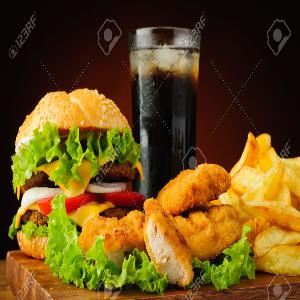cheeseburger: (10, 79, 145, 261)
fries: (234, 124, 300, 274)
